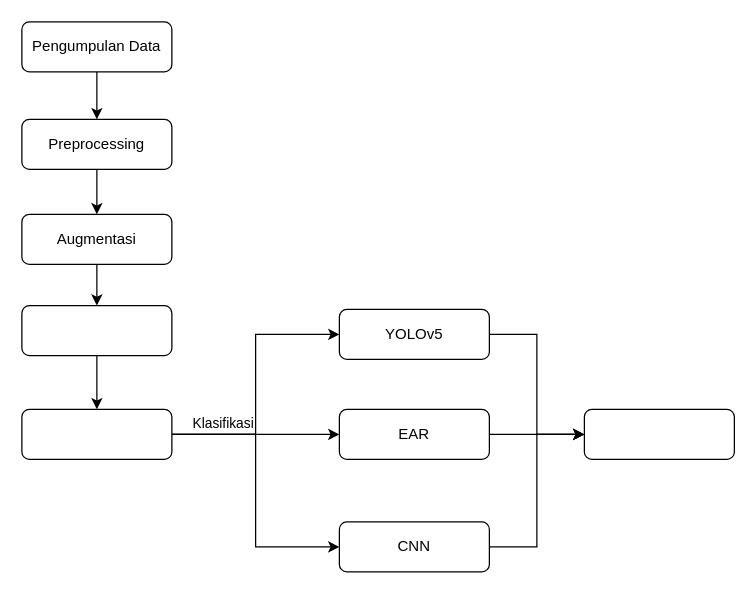
Image size: 756x594. Some labels were removed from this diagram. Each missing label, with the centre of its shape:
"Evaluasi Hasil" goes at (x=658, y=433).
"Normalisasi" goes at (x=96, y=330).
"Pembagian train dan test" goes at (x=96, y=433).
